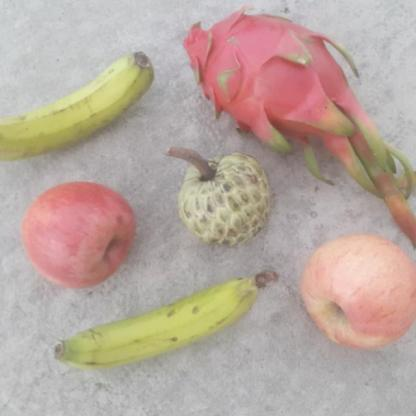annona: (173, 152, 275, 252)
apple: (298, 231, 416, 358), (19, 179, 136, 290)
banana: (47, 267, 276, 375), (0, 50, 153, 164)
pitaya: (185, 8, 350, 156)
